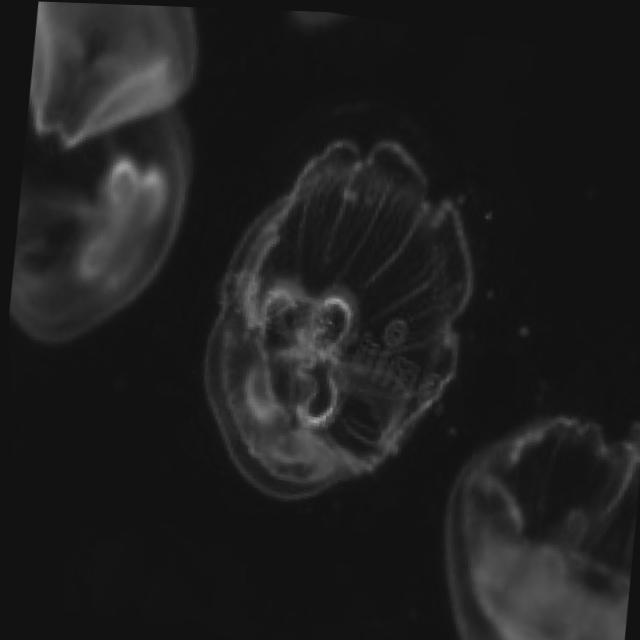Box-jellyfish: (175, 101, 495, 525), (416, 379, 640, 640)
Moon-jellyfish: (0, 0, 217, 363)
